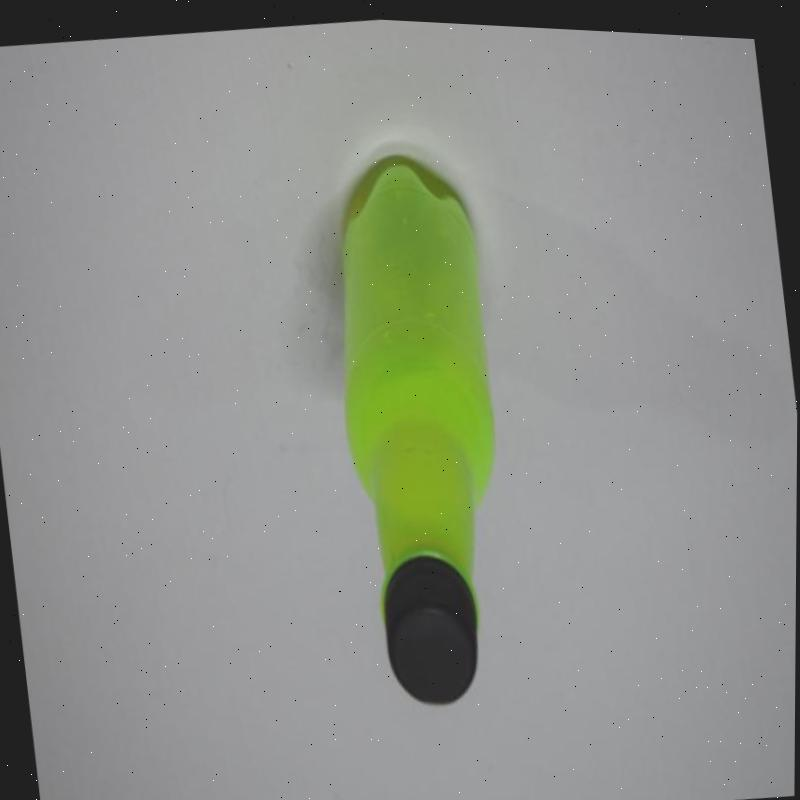botella: (308, 145, 535, 714)
